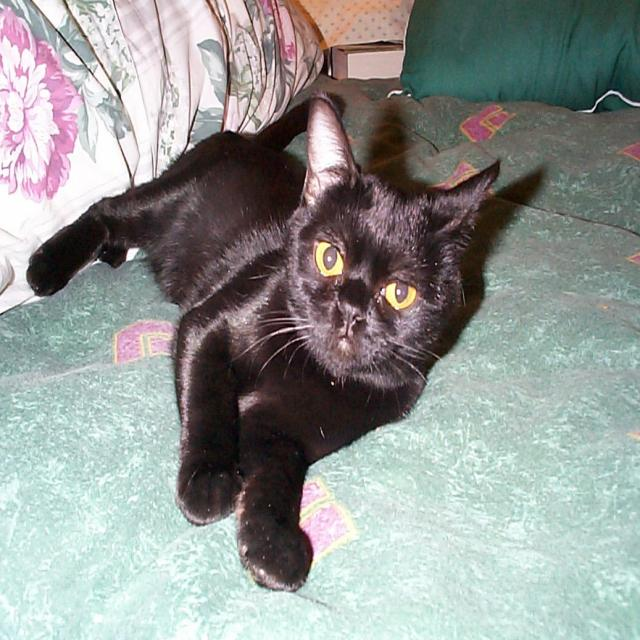Bombay: (23, 88, 504, 600)
